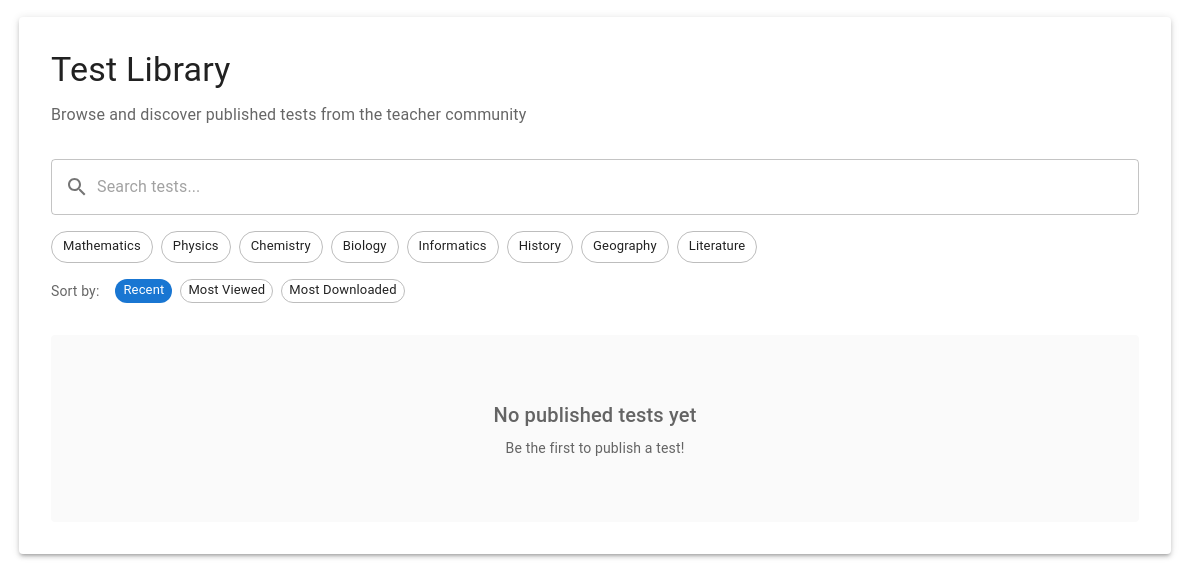
Scenario: TestLibraryPage › UI State Management › should show correct empty state message for search
The image size is (1191, 576).
Type "nonexistent" into the field with placeholder "Search tests..." at x=618, y=187, box [97,159,1139,215]
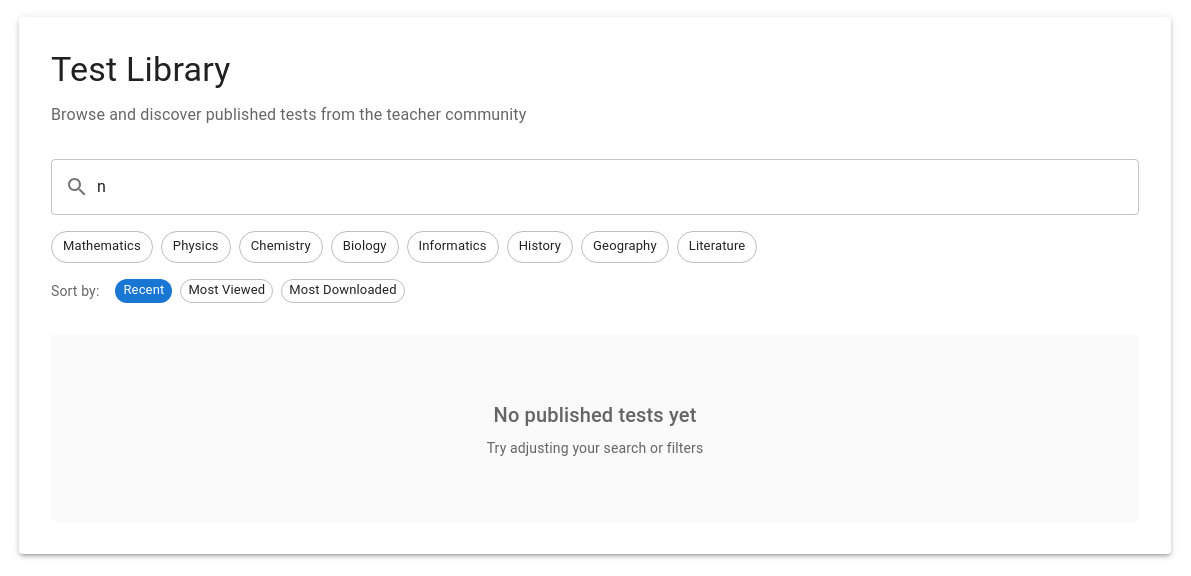
Result: the text "Try adjusting your search or filters" is shown at [487,440,703,456]
